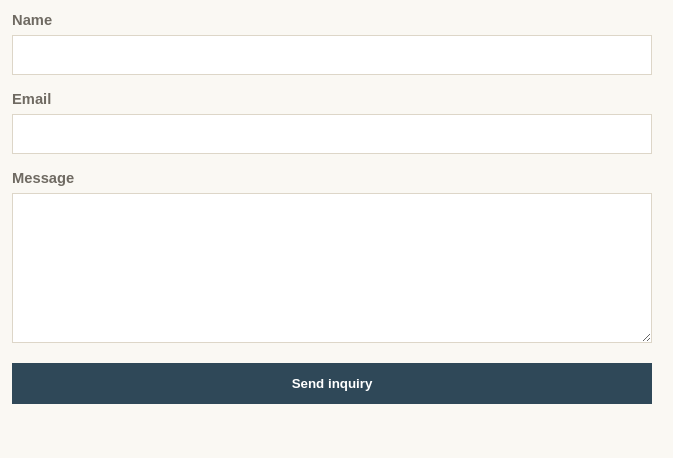
Test: ContactForm › shows an error when submission fails
In the field labelled "Name": (332, 55) [12,35,652,75], type "Taylor"
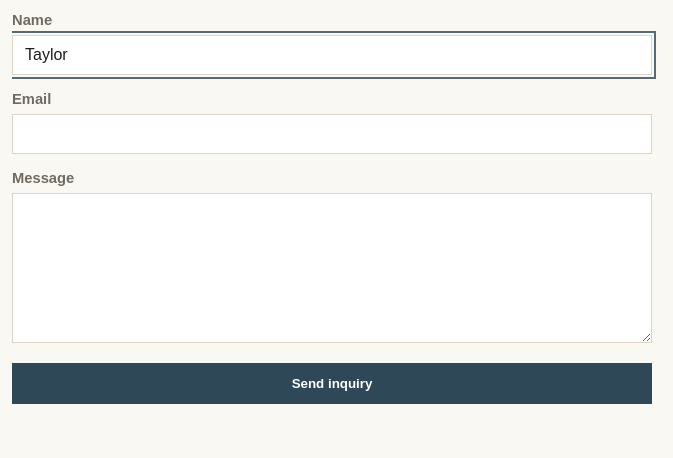
In the field labelled "Email": (332, 134) [12,114,652,154], type "taylor@example.com"
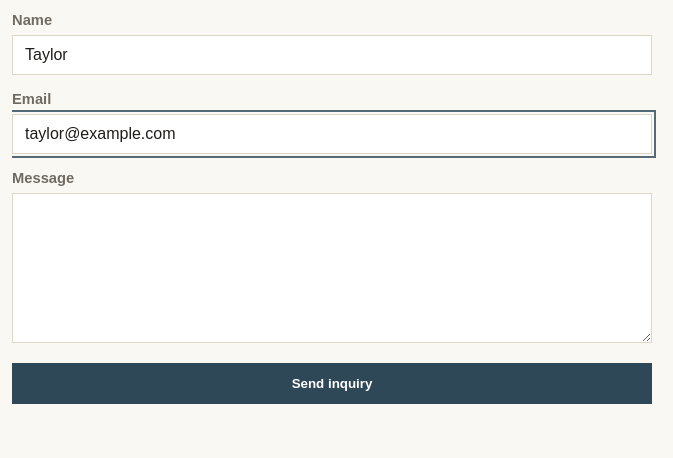
In the text box labelled "Message": (332, 268) [12,193,652,343], type "I am interested in a painting."
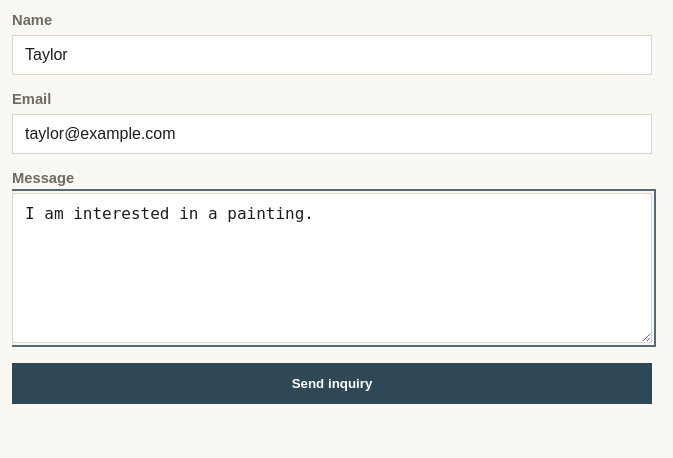
Click the button "Send inquiry": (332, 384) [12,363,652,404]
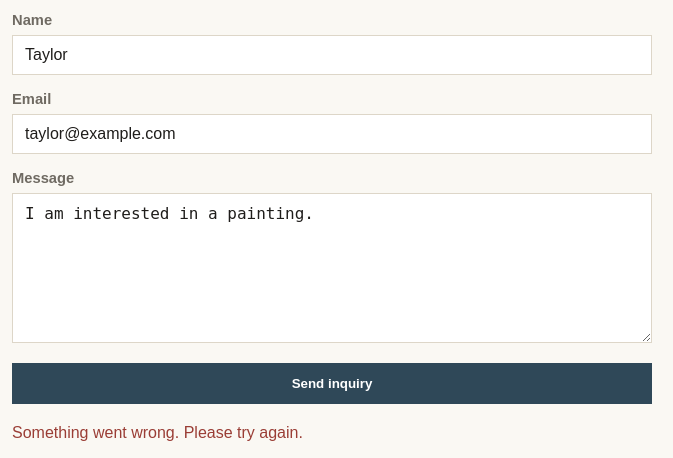
Check: the text "Something went wrong. Please try again." is shown, box [12,424,303,441]
